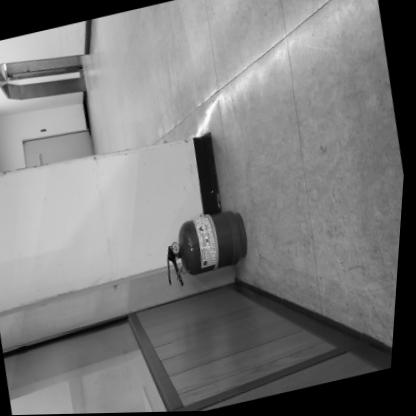FE: (159, 208, 256, 285)
